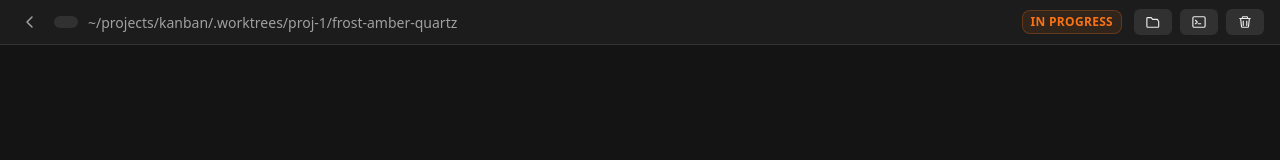
Test: TaskHeader path tooltip (mobile) › toggles off when the label is tapped again
Click the text "~/projects/kanban/.worktrees/proj-1/frost-amber-quartz" at (273, 22), box [88,12,457,32]
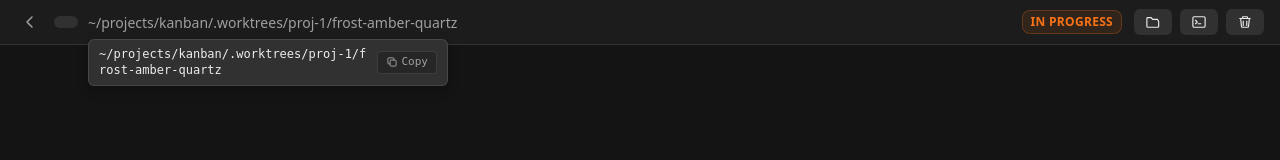
Expected: the tooltip "~/projects/kanban/.worktrees/proj-1/frost-amber-quartz Copy" is shown, [88,38,448,86]
Click the text "~/projects/kanban/.worktrees/proj-1/frost-amber-quartz" next to "In Progress" at (273, 22), box [88,12,457,32]
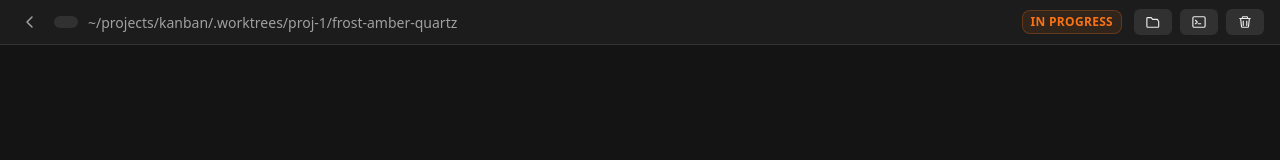
Expected: the tooltip "~/projects/kanban/.worktrees/proj-1/frost-amber-quartz Copy" is gone
